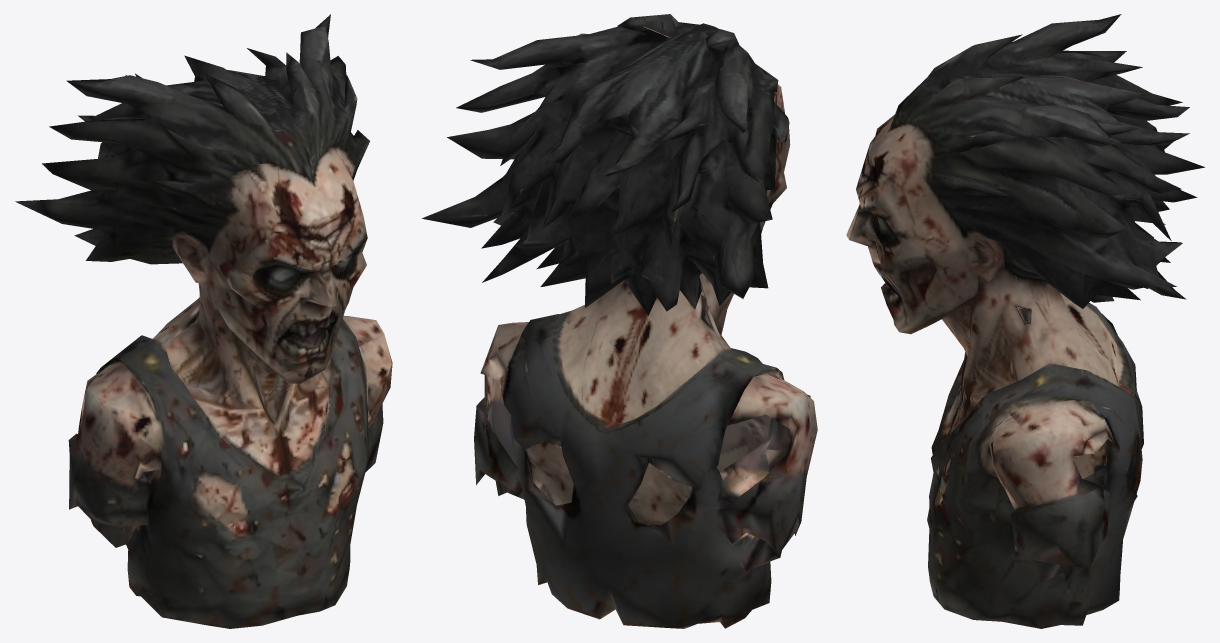
Rendered from runner.glb.
The picture shows the model from 3 angles, left to right: view 1: azimuth 30°, elevation 25°; view 2: azimuth 150°, elevation 25°; view 3: azimuth 270°, elevation 25°; orthographic projection. The views are drawn at different scales.
Visible parts, largest first — view 1: Mesh_0; view 2: Mesh_0; view 3: Mesh_0.
Part boxes in pixels (left/top/right/bottom): Mesh_0: left=15, top=14, right=392, bottom=628; Mesh_0: left=422, top=14, right=817, bottom=628; Mesh_0: left=846, top=14, right=1204, bottom=628.
Size of the model in its own units: 1.16 by 1.9 by 1.17.
1 material, 1 textured.
